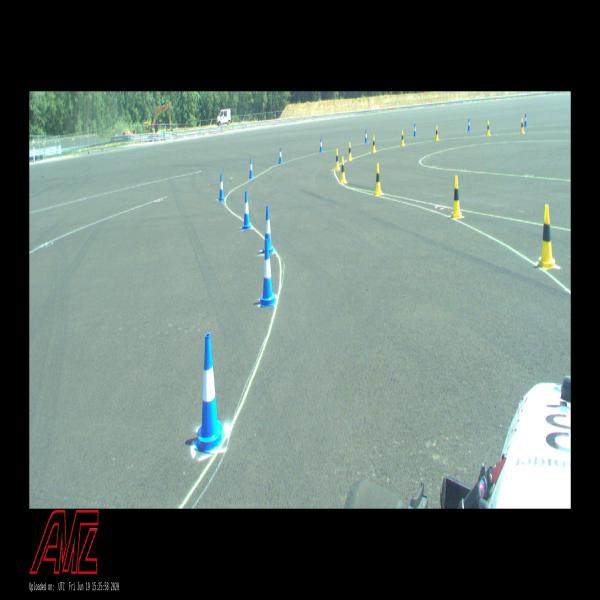blue_cone: (193, 334, 225, 451), (259, 238, 276, 306), (262, 205, 274, 254), (242, 191, 251, 230), (218, 173, 225, 201), (249, 158, 254, 179), (278, 147, 283, 164), (319, 138, 323, 152), (364, 130, 368, 143), (524, 113, 527, 126), (468, 118, 470, 131), (414, 124, 416, 136)
yellow_cone: (537, 204, 558, 269), (450, 176, 462, 218), (375, 163, 382, 195), (340, 157, 347, 183), (335, 149, 340, 170), (372, 135, 376, 153), (348, 142, 352, 160), (520, 118, 524, 134), (400, 130, 404, 146), (435, 125, 439, 141), (487, 121, 490, 136)
